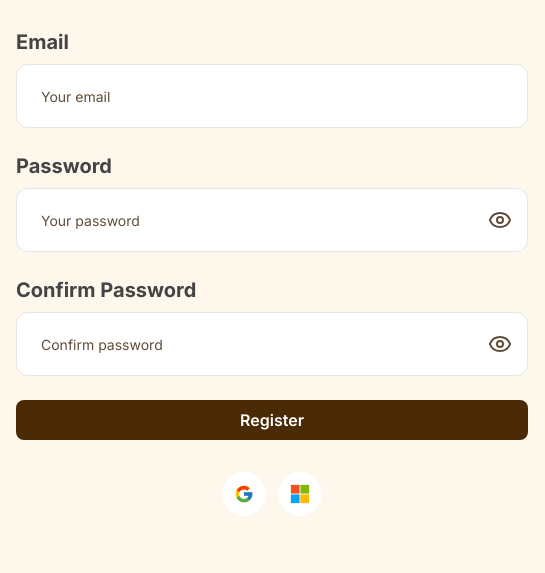
Scenario: RegisterForm › shows validation error when passwords don't match
Type "test@example.com" into the field labelled "Email" at (272, 96), box [16,64,528,128]
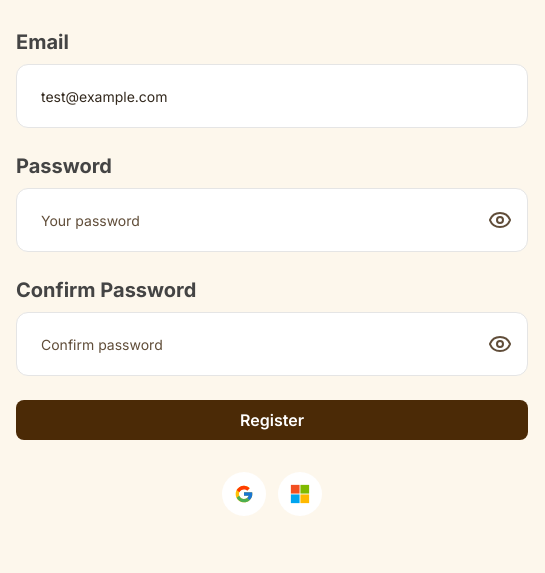
Type "password123" into the password field with placeholder "Your password" at (272, 220), box [16,188,528,252]
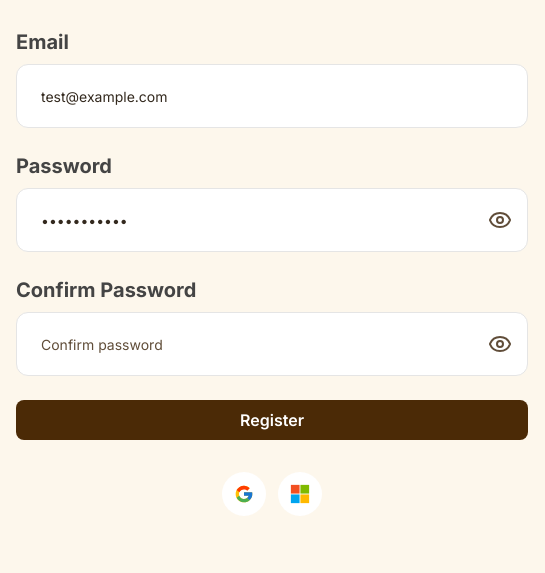
Type "differentpassword" into the password field with placeholder "Confirm password" at (272, 344), box [16,312,528,376]
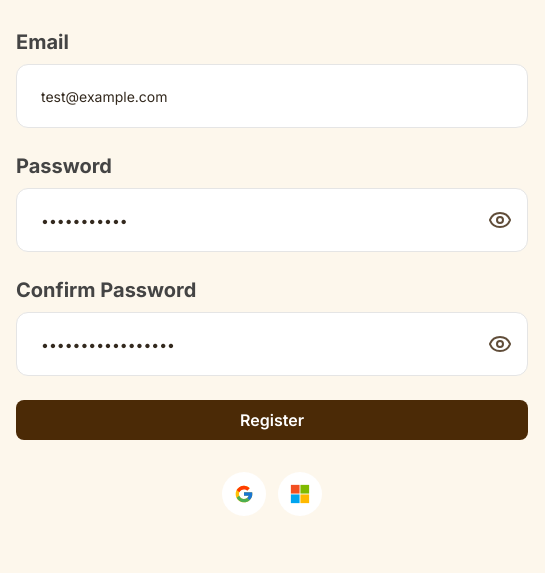
Click the button "Register" at (272, 420), box [16,400,528,440]
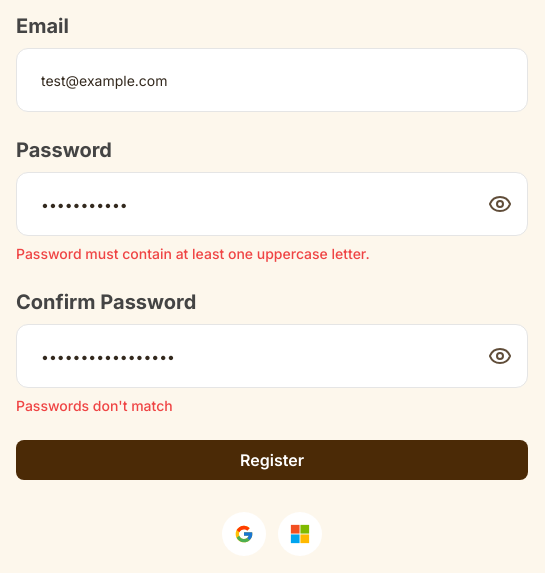
Result: the text "Passwords don't match" is shown at [16,397,173,414]
